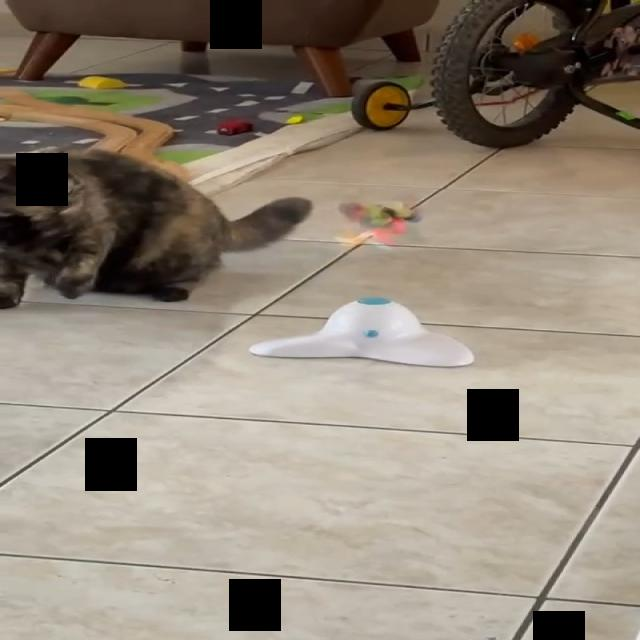authorized: (0, 146, 312, 308)
